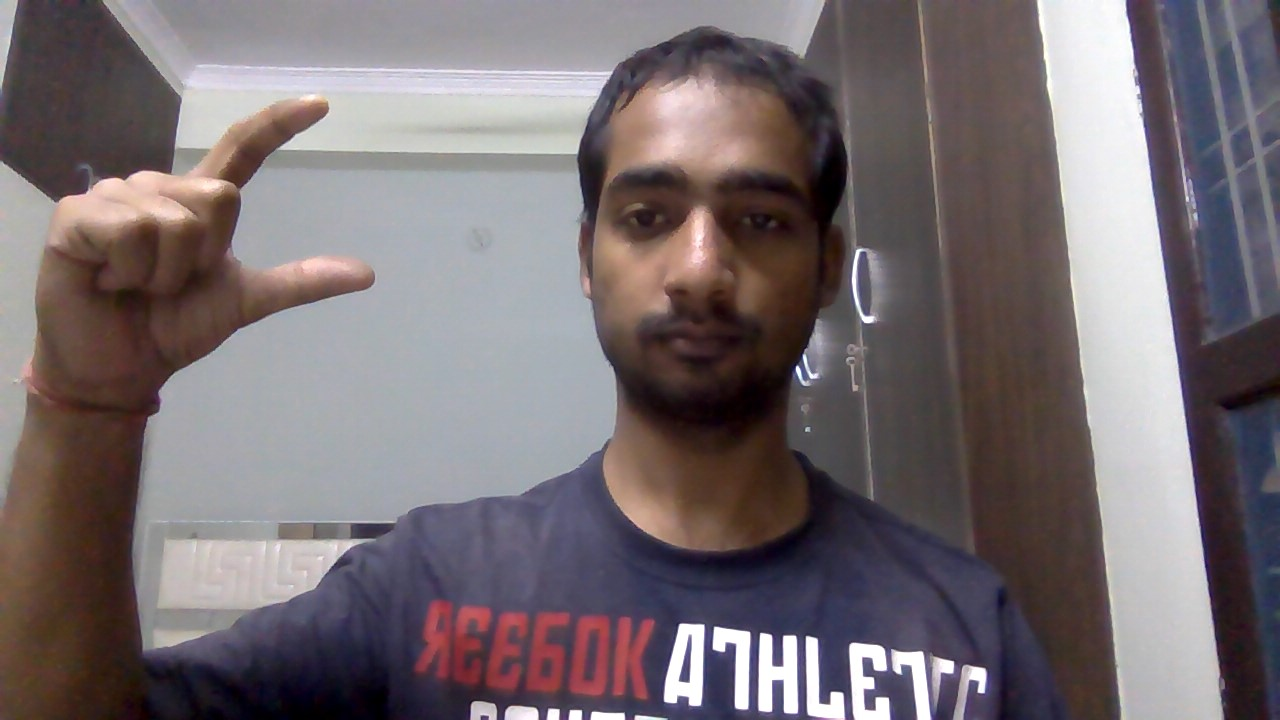Paste: (29, 88, 395, 422)
